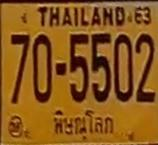0: (32, 34, 51, 100), (115, 33, 132, 102)
2: (136, 34, 155, 101)
5: (91, 34, 110, 101), (70, 34, 88, 101)
7: (11, 34, 30, 106)
PLK: (47, 106, 118, 142)
